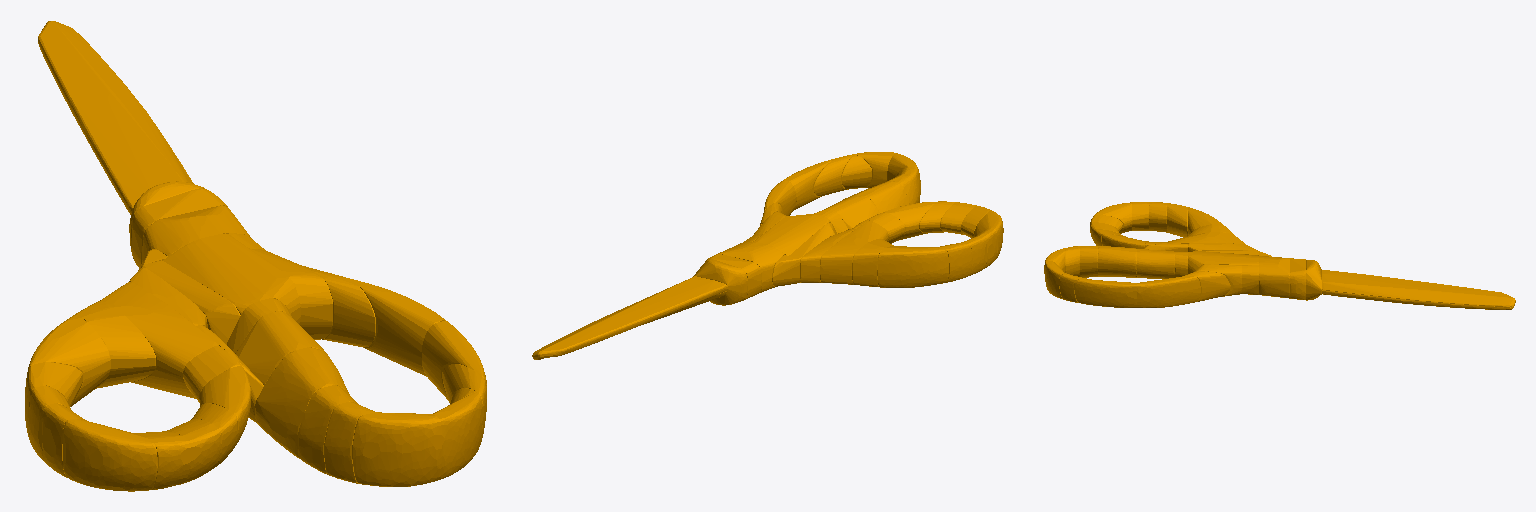
The robot description file, URDF, robot "037_scissors":
<?xml version="1.0" encoding="UTF-8"?>
<robot name="037_scissors">
	<link name="base">
		<collision>
			<geometry>
				<mesh filename="..\vhacd\037_scissors_vhacd.obj" scale="1.0 1.0 1.0"/>
			</geometry>
			<origin xyz="0 0 0"/>
			<contact_coefficients mu="0.24" />
		</collision>
		<visual>
			<geometry>
				<mesh filename="..\vhacd\037_scissors_vhacd.obj" scale="1.0 1.0 1.0"/>
			</geometry>
			<origin xyz="0 0 0"/>
		</visual>
		<inertial>
			<mass value="0"/>
			<inertia ixx="0.0" ixy="-0.0" ixz="-0.0" iyy="0.0" iyz="-0.0" izz="0.0" />
			<origin xyz="0.014591521720146432 0.0031621364610959243 0.007400674381657991"/>
		</inertial>
	</link>
</robot>

--- What the picture shows (computed from the rendered views, not written in the file) ---
Views: 3 orthographic renders of the robot side by side, from view 1: azimuth 30°, elevation 25°; view 2: azimuth 150°, elevation 25°; view 3: azimuth 270°, elevation 25°.
Robot: 037_scissors — 1 links, 0 joints (none); root link base; default pose: all joints at 0.
Links seen in each view (by area): view 1: base; view 2: base; view 3: base.
Boxes of the visible links, <box> form: base: <box>25,21,486,491</box>; base: <box>532,152,1003,359</box>; base: <box>1044,202,1515,309</box>.
Bounding box of the posed robot: 0.0962 × 0.2017 × 0.0159 m (x, y, z).
1 mesh visuals loaded from 1 distinct referenced files (1 OBJ).